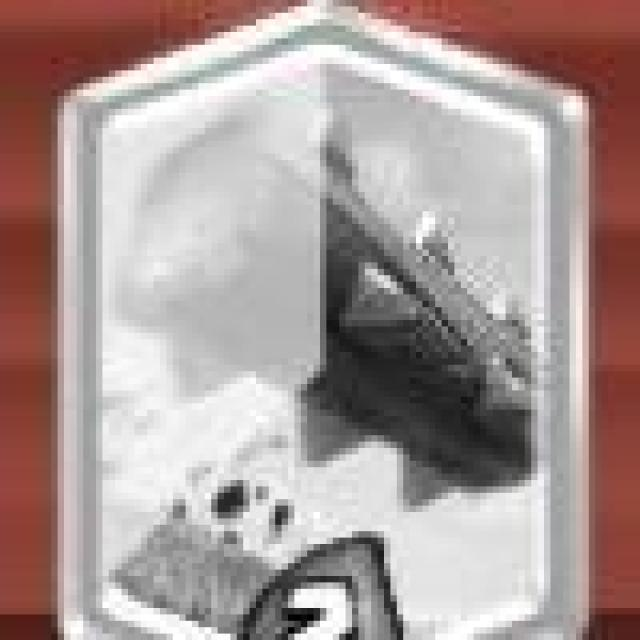Log: (67, 7, 593, 640)
